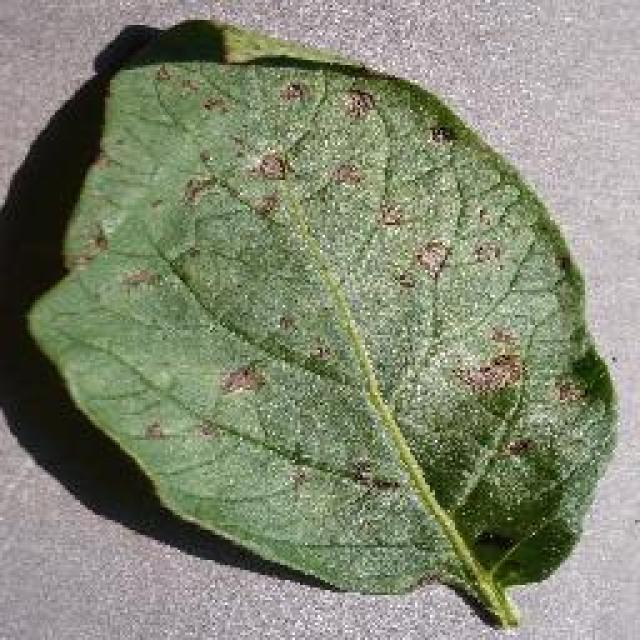early_blight: (20, 15, 622, 633)
